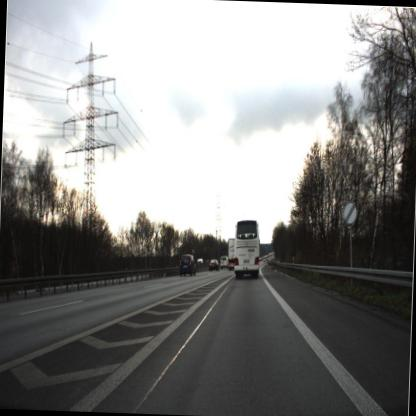other: (341, 198, 361, 228)
